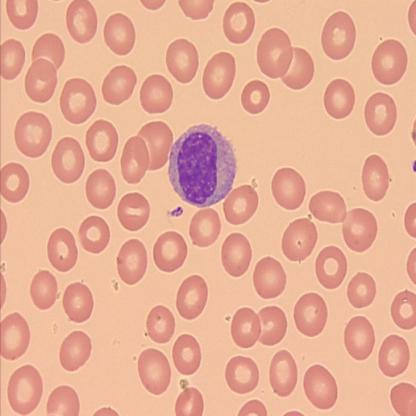Atypical lymphocyte: (167, 122, 238, 207)
